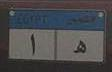1: (28, 33, 39, 56)
haa: (70, 39, 87, 57)
